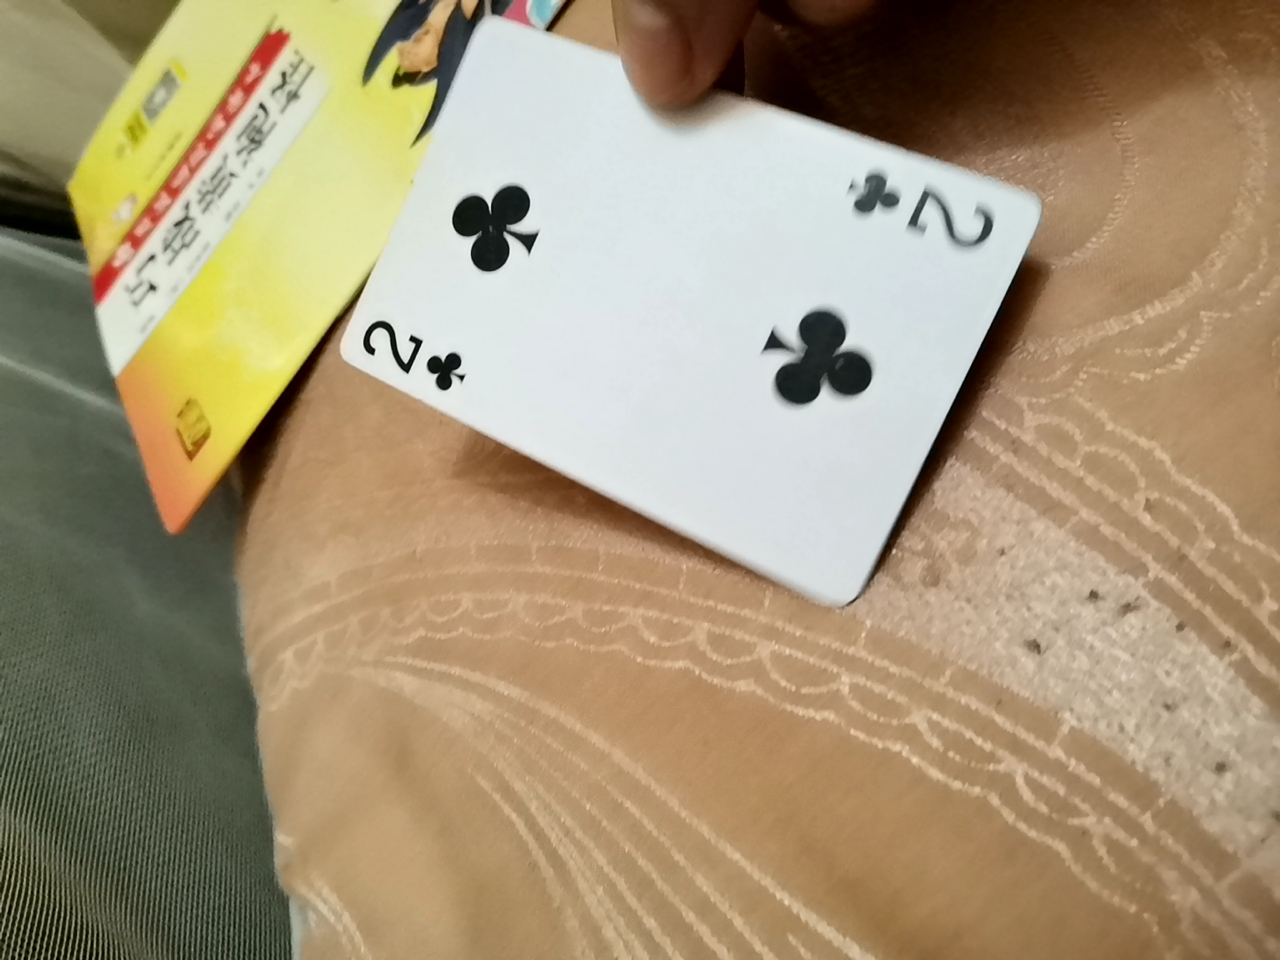mh 2: (349, 104, 1013, 697)
